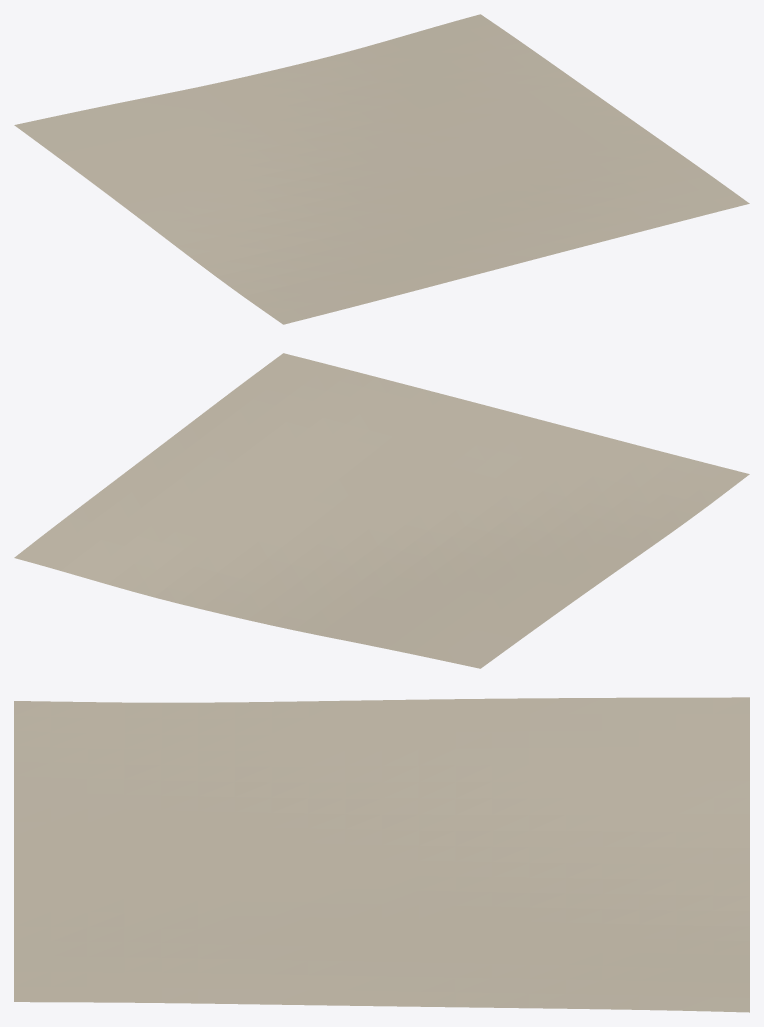
Rendered from bolak_12_-2.glb.
3 renders of one model, top to bottom at view 1: azimuth 30°, elevation 25°; view 2: azimuth 150°, elevation 25°; view 3: azimuth 270°, elevation 25°, orthographic. The views are drawn at different scales.
Visible parts, largest first — view 1: Yer_Tuproq-col; view 2: Yer_Tuproq-col; view 3: Yer_Tuproq-col.
Part boxes in pixels (<box>): Yer_Tuproq-col: <box>14,14,749,324</box>; Yer_Tuproq-col: <box>14,353,749,668</box>; Yer_Tuproq-col: <box>14,697,749,1012</box>.
Size of the model in its own units: 400 by 10.87 by 400.
